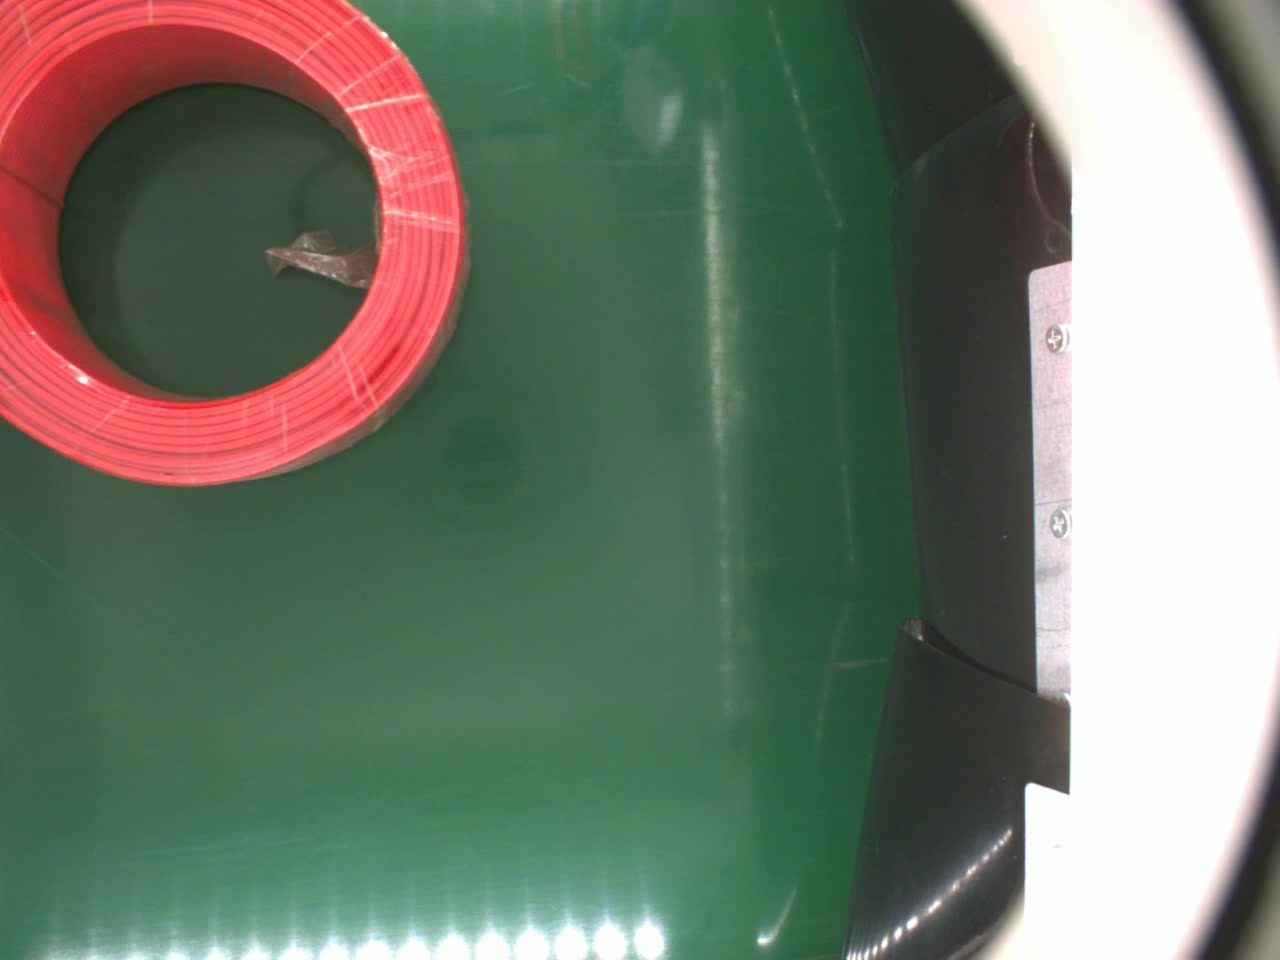red: (0, 0, 472, 486)
